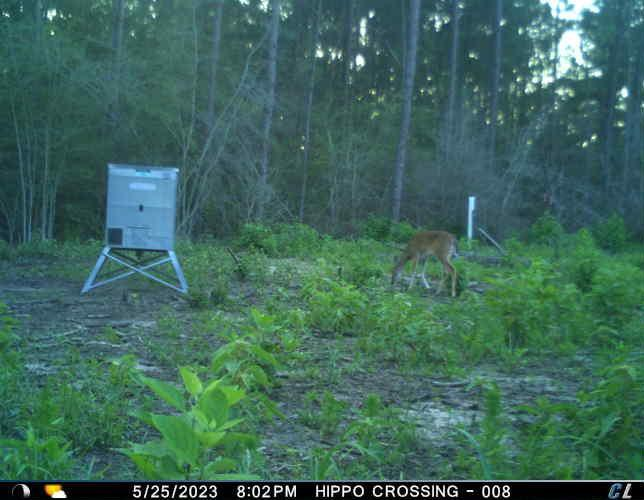Deer: (386, 227, 464, 301)
